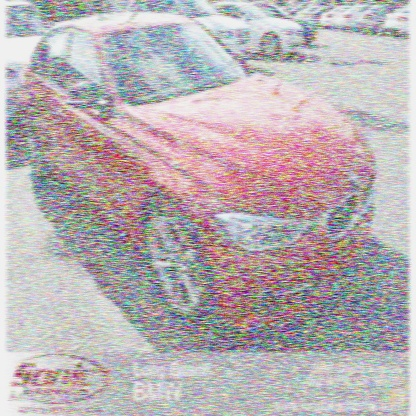Vehicle: (18, 12, 379, 341)
